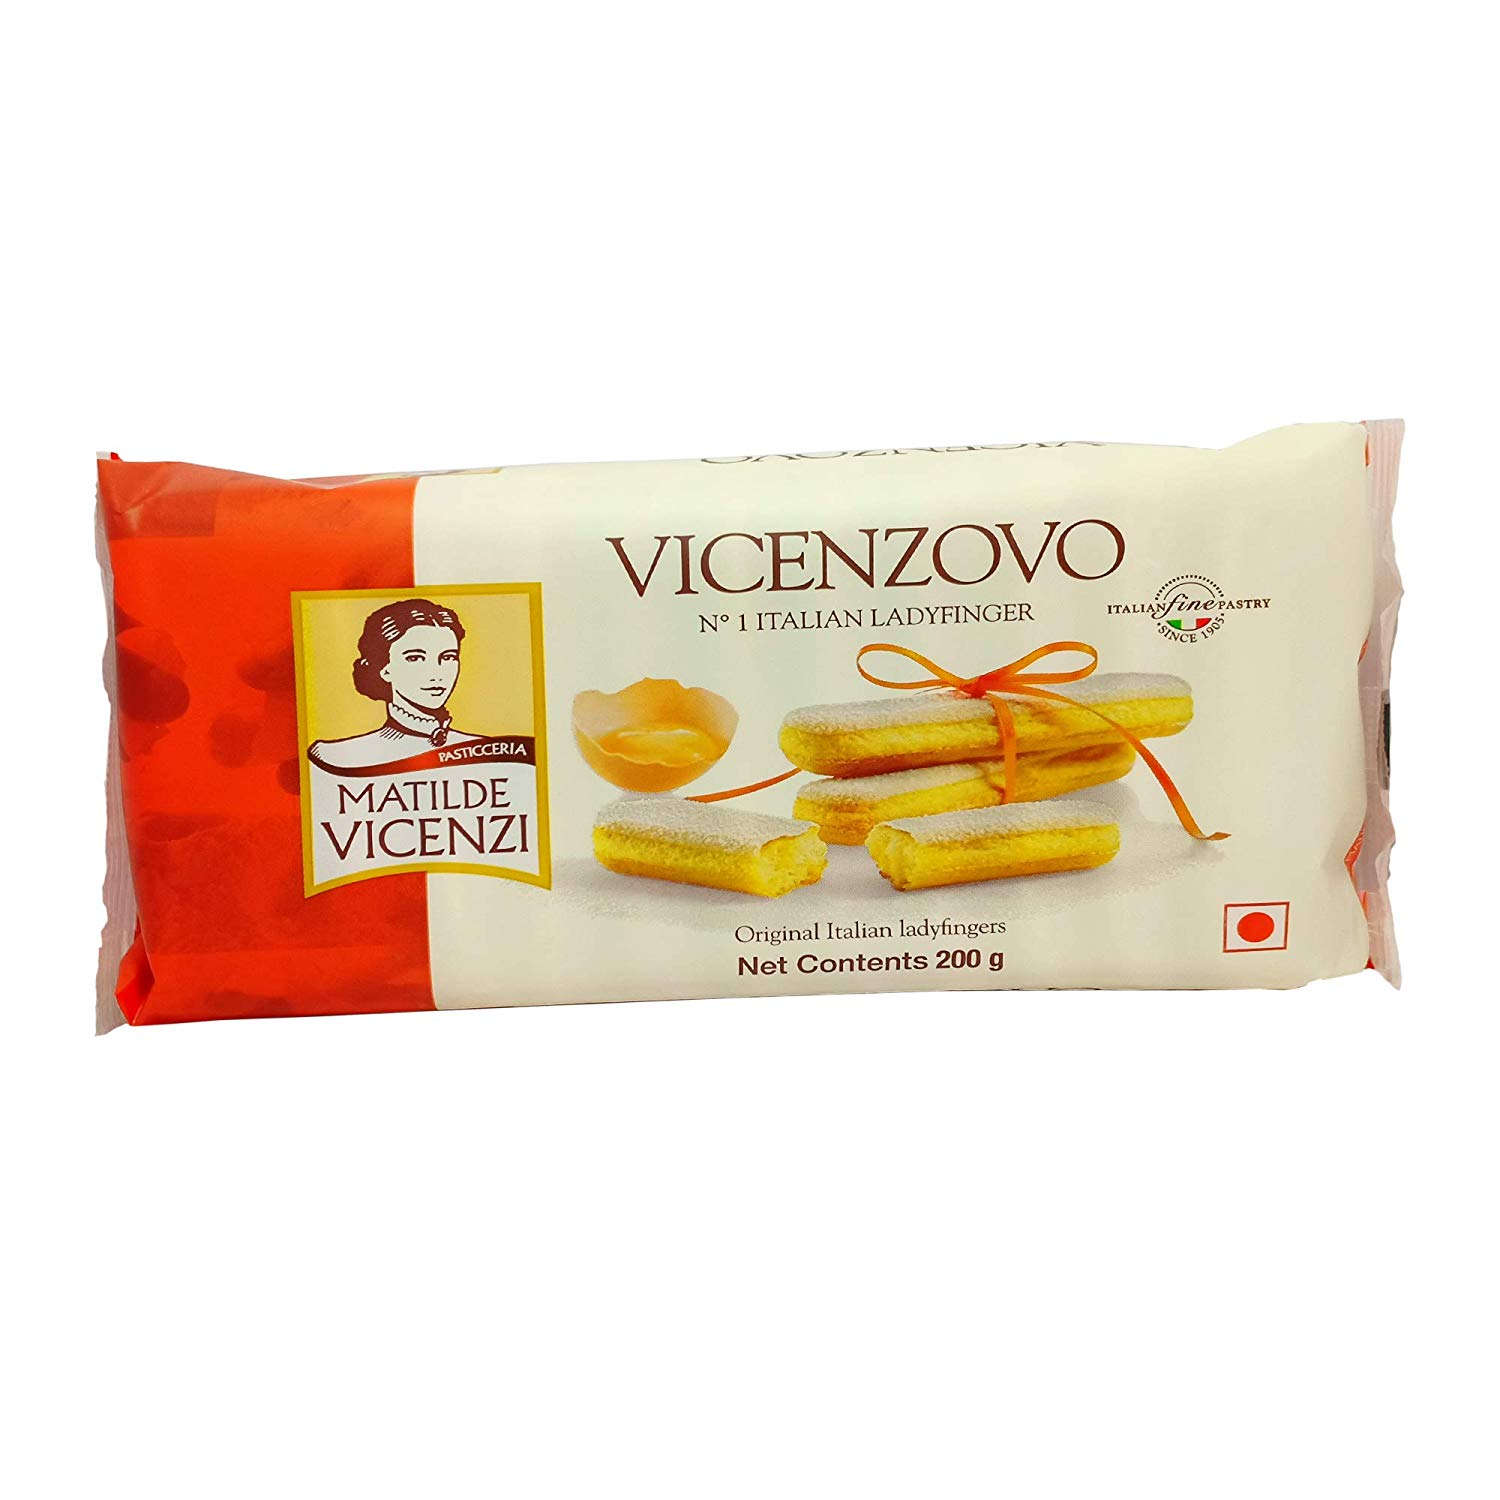nonveg_red: (1220, 900, 1291, 955)
